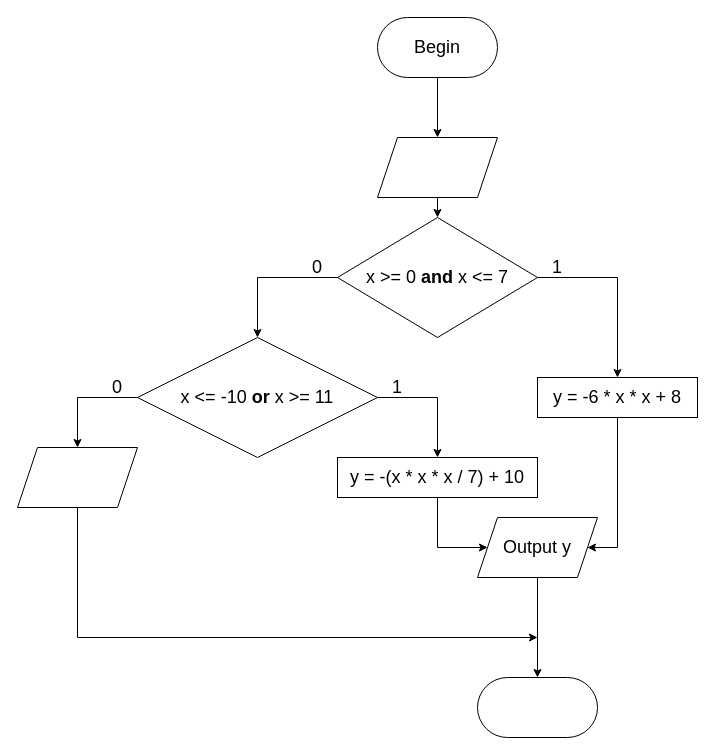
The diagram is 715 pixels wide and 755 high, and some of its shapes have lost their labels. Here are the shapes that lost their labels. From the top down, the centre of each, then its label:
point (437, 167): Input x
point (77, 477): Output "The y doesn't exist with this"
point (537, 707): End
